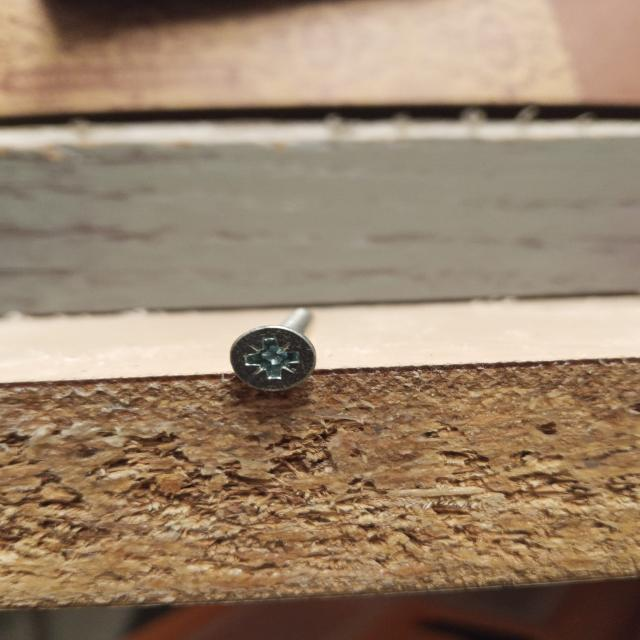pozidriv: (229, 324, 317, 392)
